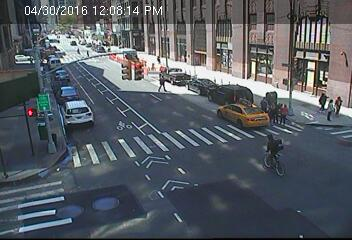neg: (252, 132, 288, 180), (44, 94, 73, 132), (69, 149, 94, 183), (105, 174, 130, 208), (197, 168, 221, 200), (72, 35, 96, 66), (152, 113, 174, 143), (123, 51, 145, 80), (199, 83, 217, 106), (116, 111, 133, 134), (253, 45, 269, 66), (196, 32, 208, 48)
pos: (153, 68, 171, 92), (264, 100, 282, 124), (323, 98, 340, 120), (254, 94, 269, 115), (281, 102, 296, 122), (314, 89, 328, 108), (335, 93, 348, 111)
